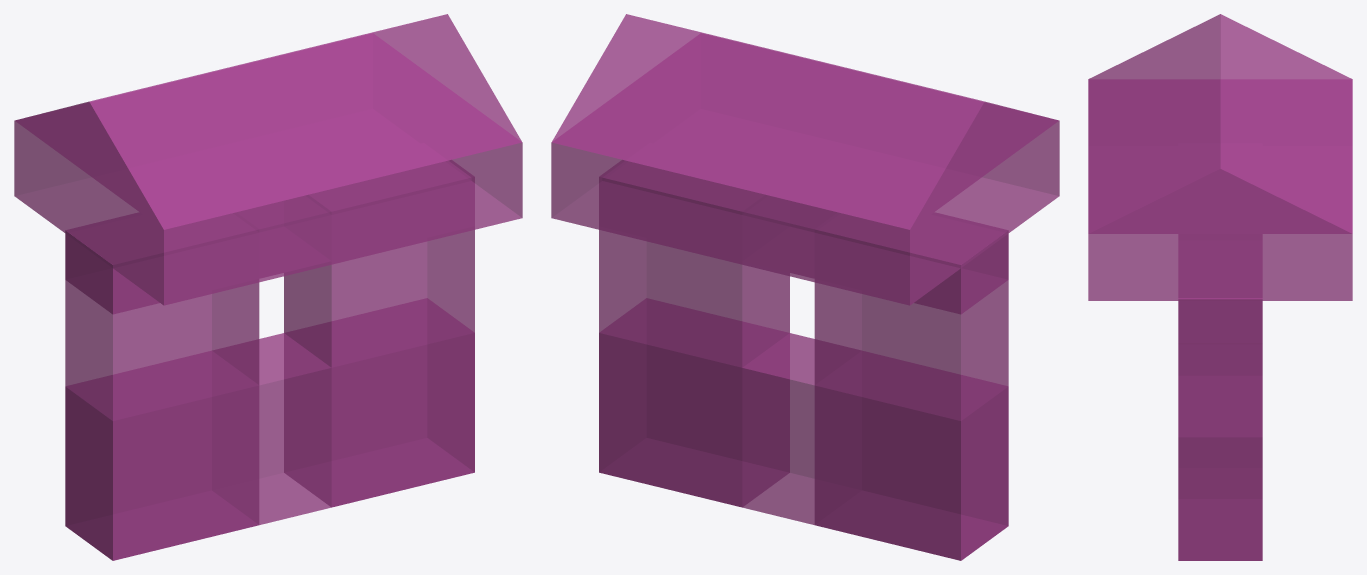
The model's file is SM_Bld_Fence_Dobei_01_Alt_01_Collision_01.fbx.
3 renders of one model, left to right at view 1: azimuth 30°, elevation 25°; view 2: azimuth 150°, elevation 25°; view 3: azimuth 270°, elevation 25°, orthographic. The views are drawn at different scales.
Parts seen in each view (by area): view 1: SM_Bld_Fence_Dobei_01_Alt_01_Collision_01; view 2: SM_Bld_Fence_Dobei_01_Alt_01_Collision_01; view 3: SM_Bld_Fence_Dobei_01_Alt_01_Collision_01.
Part boxes in pixels (box(x1,y1,x2,y2)): SM_Bld_Fence_Dobei_01_Alt_01_Collision_01: box(14, 14, 522, 560); SM_Bld_Fence_Dobei_01_Alt_01_Collision_01: box(551, 14, 1059, 560); SM_Bld_Fence_Dobei_01_Alt_01_Collision_01: box(1088, 14, 1352, 560).
Size of the model in its own units: 258 by 301 by 185.
